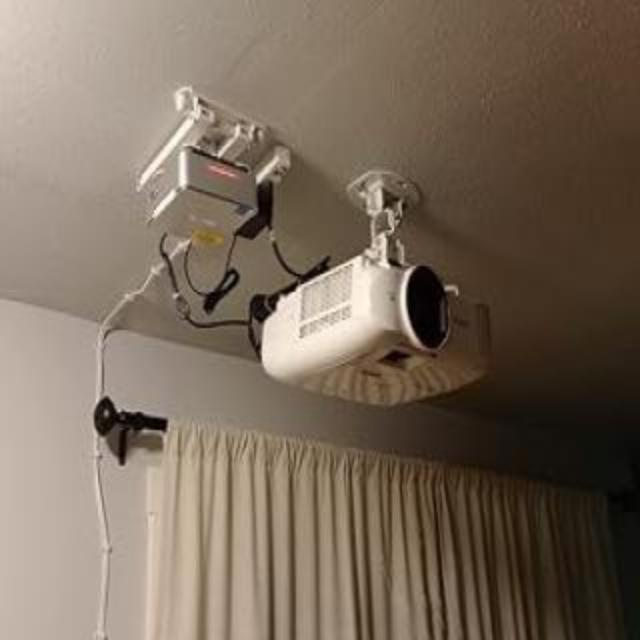Projector: (260, 172, 490, 408)
